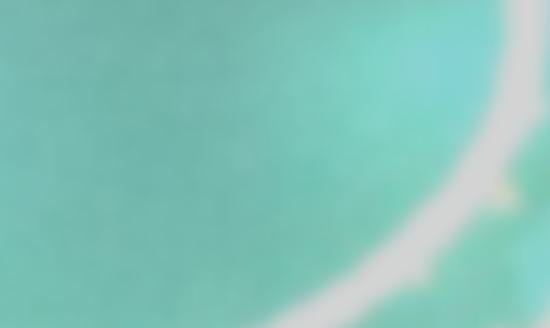Apron: (82, 1, 488, 293)
